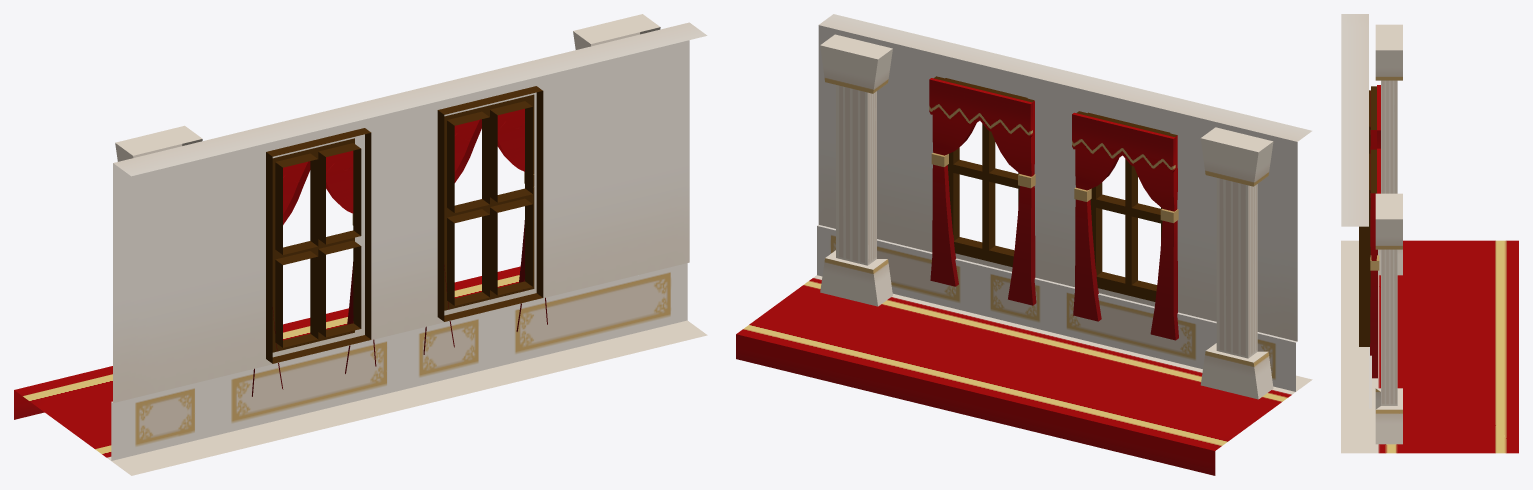
File: wall_windows.fbx
3 renders of one model, left to right at view 1: azimuth 30°, elevation 25°; view 2: azimuth 150°, elevation 25°; view 3: azimuth 270°, elevation 25°, orthographic. The views are drawn at different scales.
Visible parts, largest first — view 1: window3; view 2: window3; view 3: window3.
Boxes of the visible parts, x1,y1,x2,y2 form: window3: (14, 14, 707, 475); window3: (736, 14, 1312, 475); window3: (1341, 14, 1518, 453).
Size of the model in its own units: 1007 by 550 by 356.
